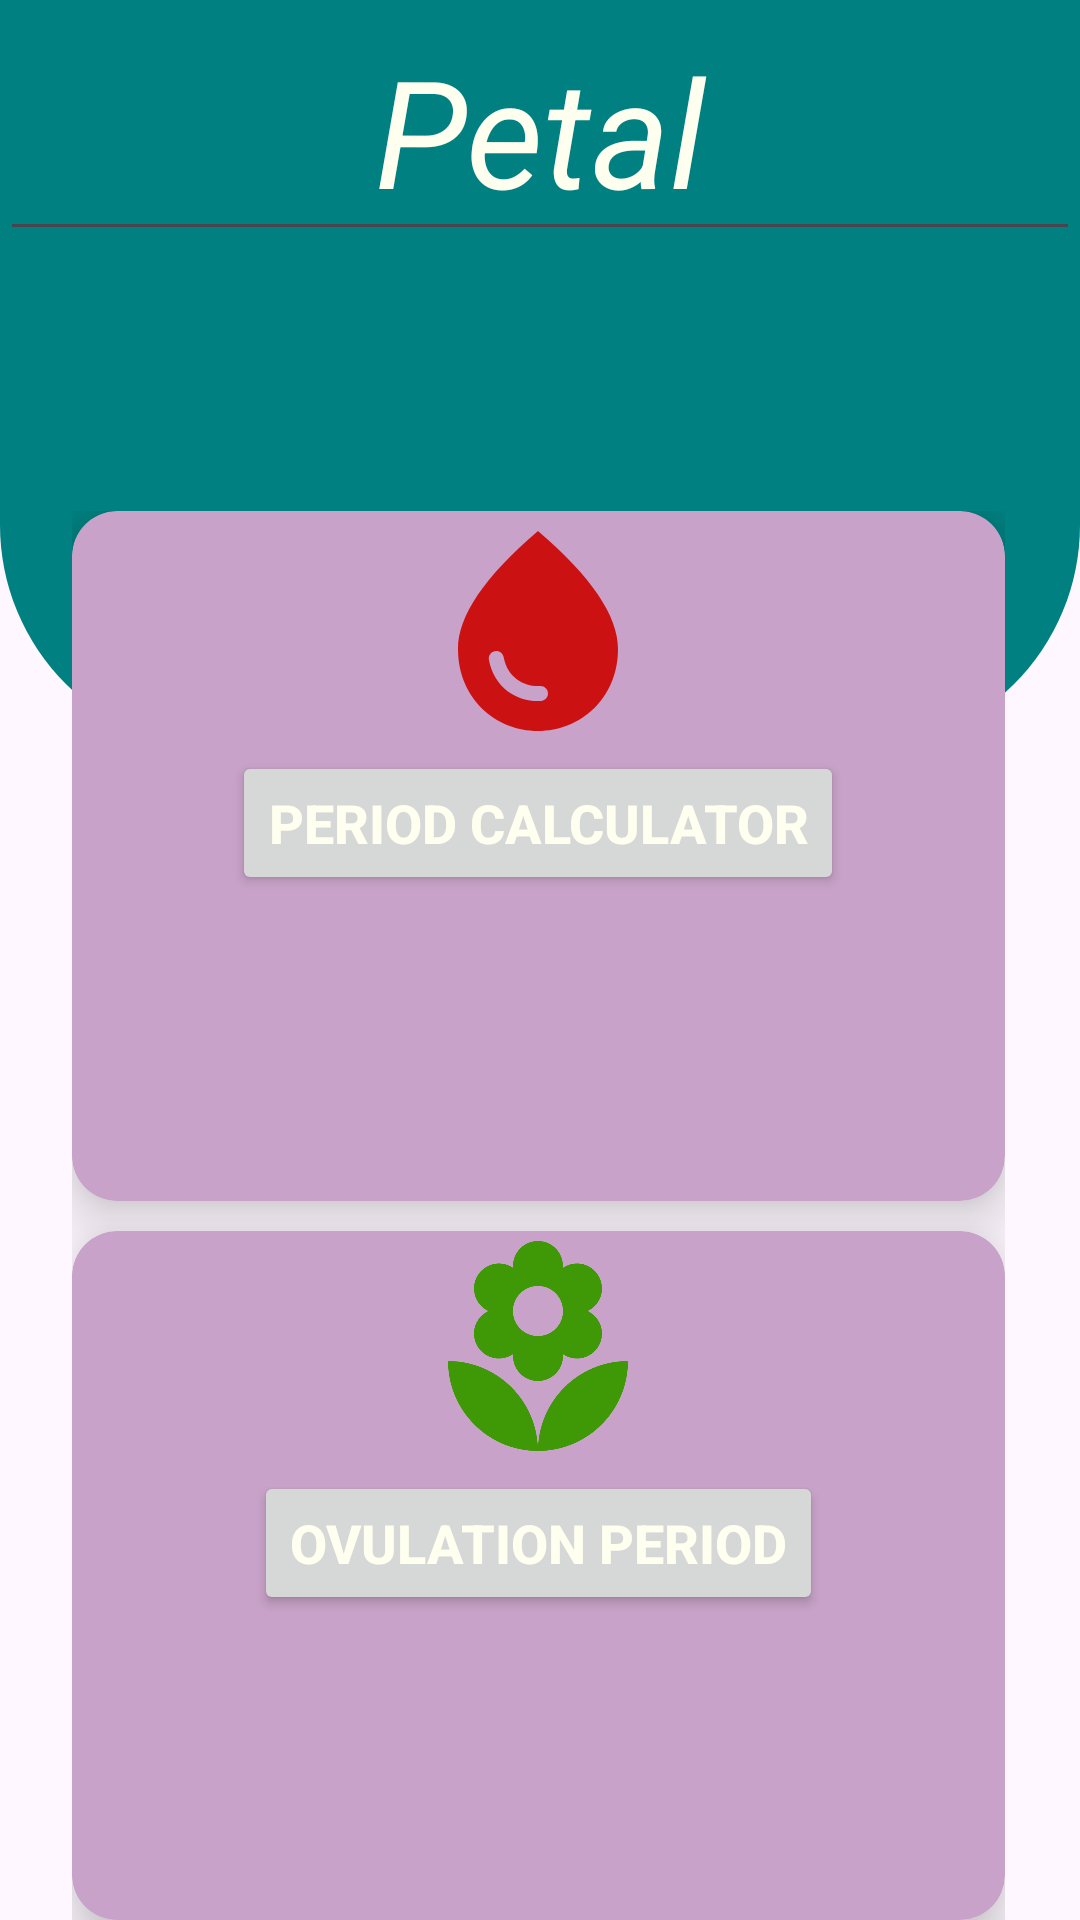

Where icons sit on this 1080*1920 app screen, as (x1, y1, x2, y2):
local florist: (448, 1241, 628, 1451)
water drop: (458, 531, 618, 731)
